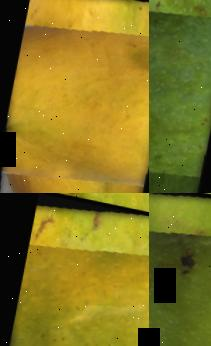PartiallyRipe: (0, 193, 149, 346)
Ripe: (0, 0, 149, 193)
Unripe: (149, 0, 211, 193), (149, 193, 211, 346)
